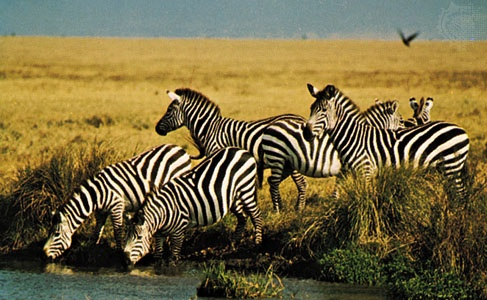zebra: (300, 81, 472, 209), (154, 85, 311, 214), (36, 143, 197, 267), (123, 143, 266, 268), (258, 99, 401, 214)
